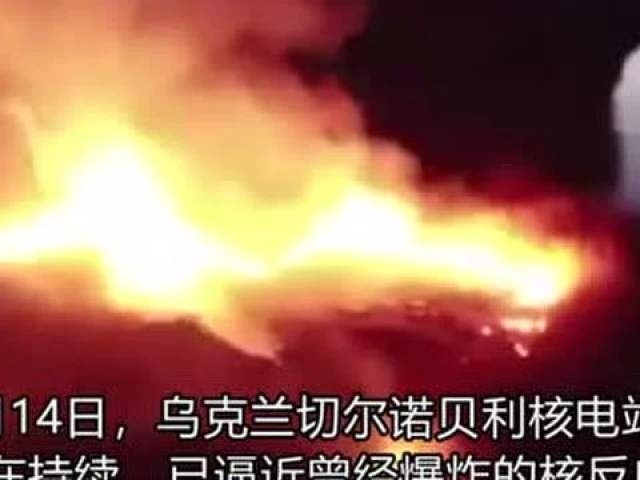fire: (0, 109, 564, 337)
